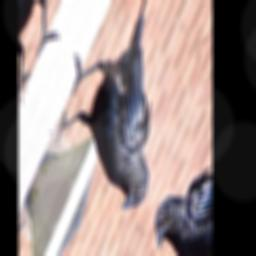Crow: (41, 0, 203, 227)
